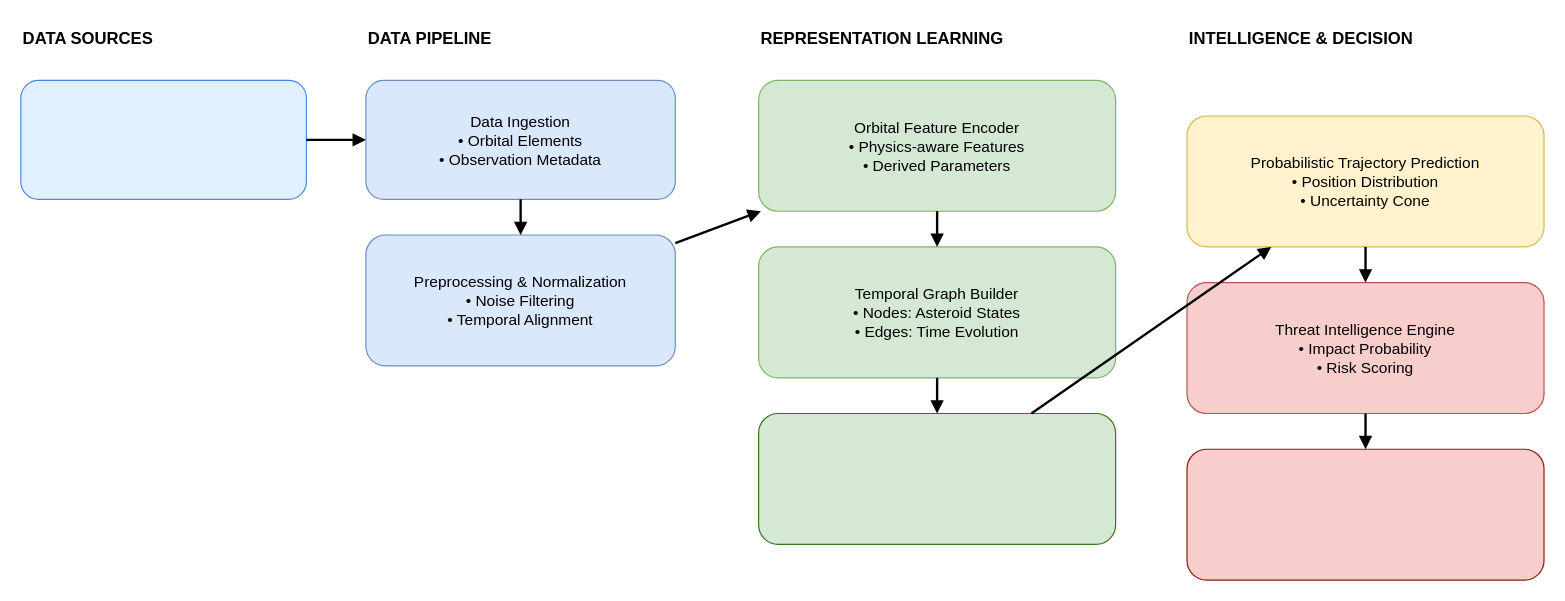
Some shapes in this 1565 by 601 pixel diagram are drawn without their labels. Here are the shapes that lost their labels. From the top down, the box of each, then its label:
(20, 79, 306, 199): Astronomical Databases • JPL • MPC • Radar Logs
(757, 412, 1116, 544): Graph Neural Network • GCN / GAT Layers • Trajectory Learning
(1186, 448, 1544, 580): Visualization & Decision Support • Orbit Cones • Risk Timeline
